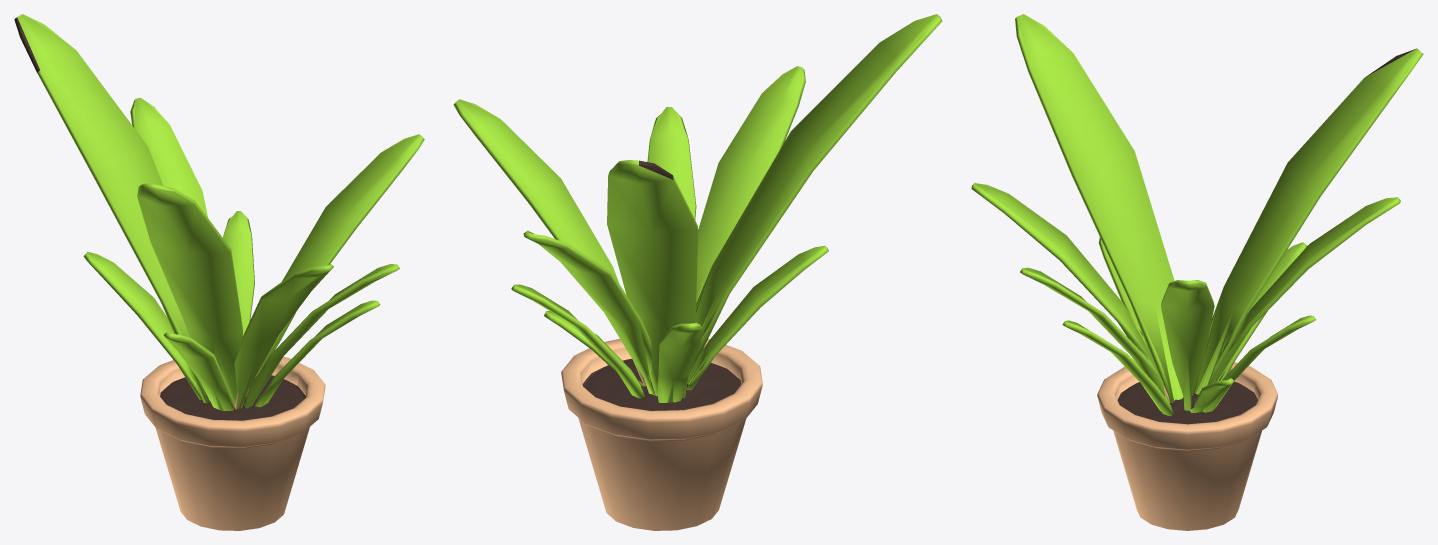
3 renders of one model, left to right at view 1: azimuth 30°, elevation 25°; view 2: azimuth 150°, elevation 25°; view 3: azimuth 270°, elevation 25°, orthographic. The views are drawn at different scales.
Parts seen in each view (by area): view 1: Cylinder; view 2: Cylinder; view 3: Cylinder.
Part boxes in pixels (bbox=[...]): Cylinder: bbox=[14, 14, 424, 530]; Cylinder: bbox=[453, 14, 942, 530]; Cylinder: bbox=[971, 14, 1423, 530].
Size of the model in its own units: 7.78 by 8.81 by 8.69.
